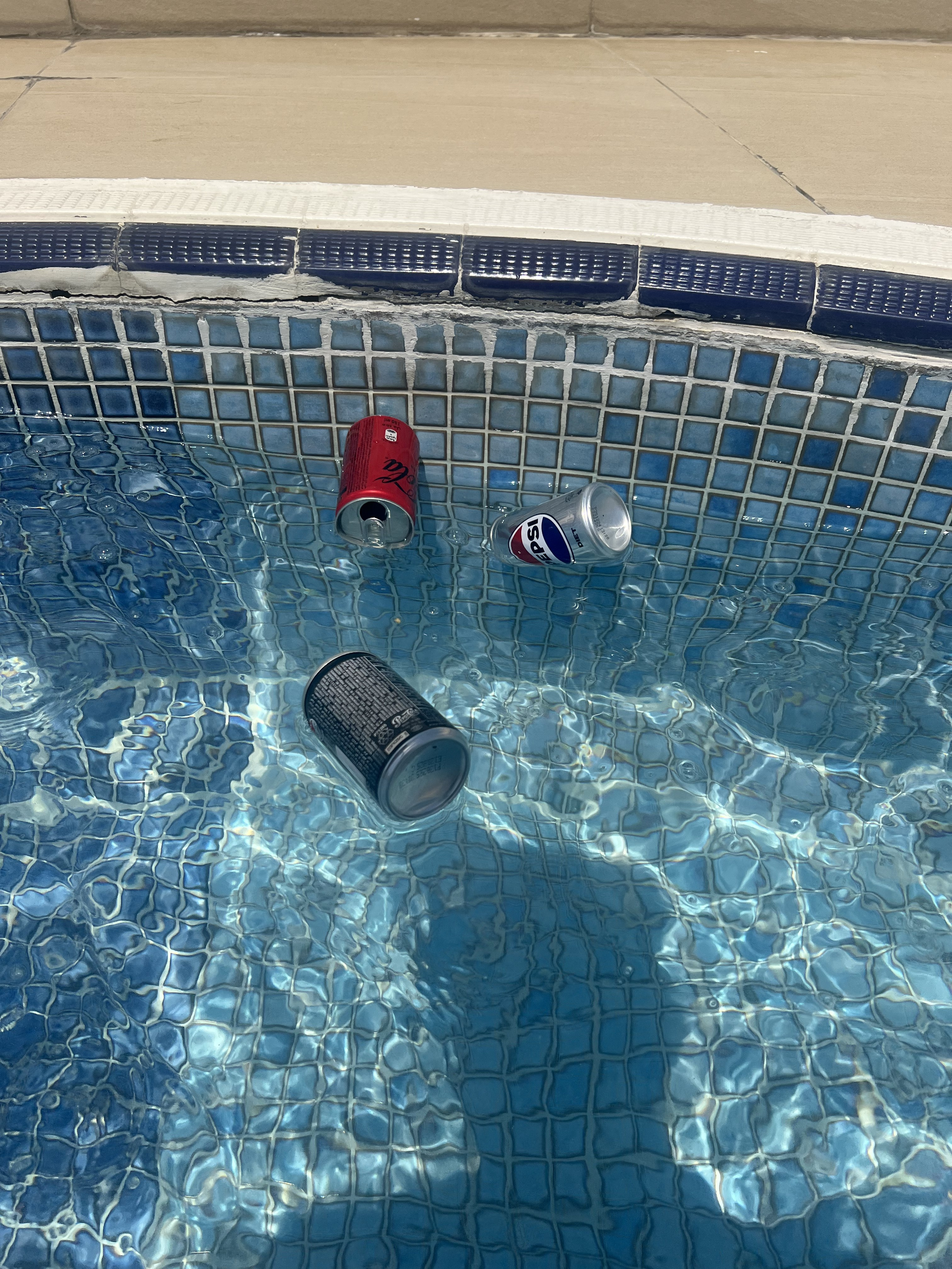debris: (296, 632, 473, 843), (489, 460, 638, 589), (326, 406, 425, 560)
